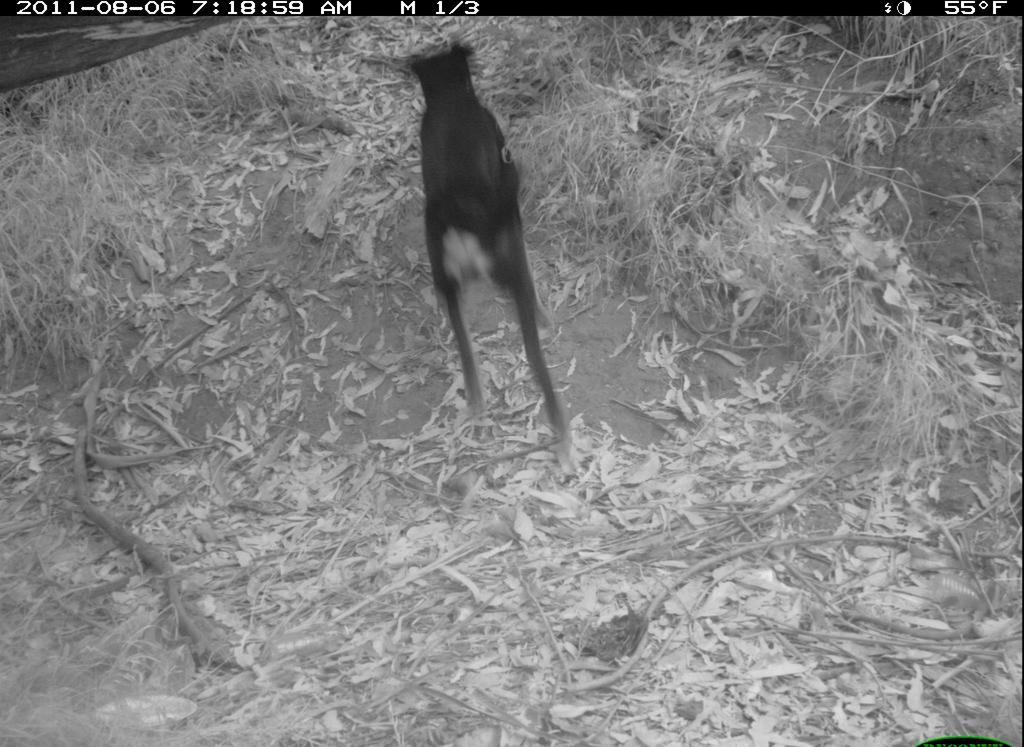dog: (395, 41, 587, 473)
